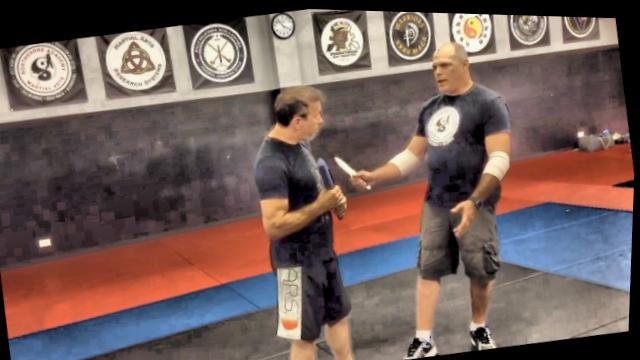knife: (331, 145, 377, 195)
